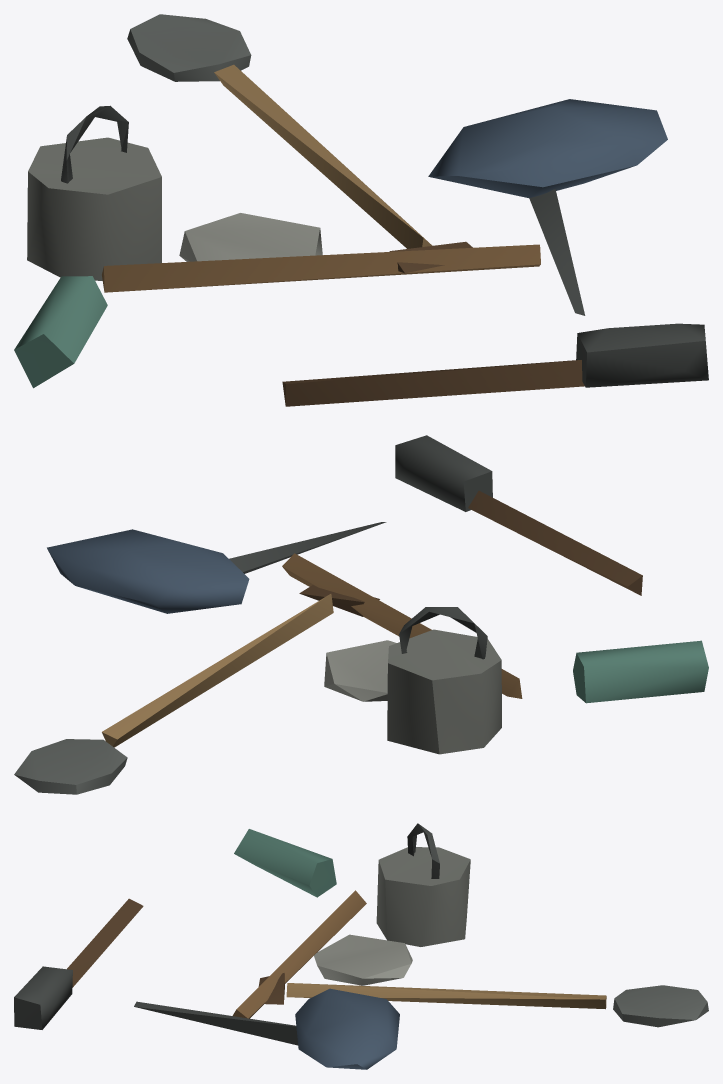
Rendered from tool_drop_c_lod2.glb.
3 views of the same model, one above another, from view 1: azimuth 30°, elevation 25°; view 2: azimuth 150°, elevation 25°; view 3: azimuth 270°, elevation 25° (orthographic). The views are drawn at different scales.
Visible parts, largest first — view 1: Surface.001; view 2: Surface.001; view 3: Surface.001.
Boxes of the visible parts, x1=… form: Surface.001: x1=14, y1=14, x2=708, y2=406; Surface.001: x1=14, y1=435, x2=708, y2=794; Surface.001: x1=14, y1=823, x2=708, y2=1069.
Size of the model in its own units: 1.87 by 0.3618 by 2.28.
